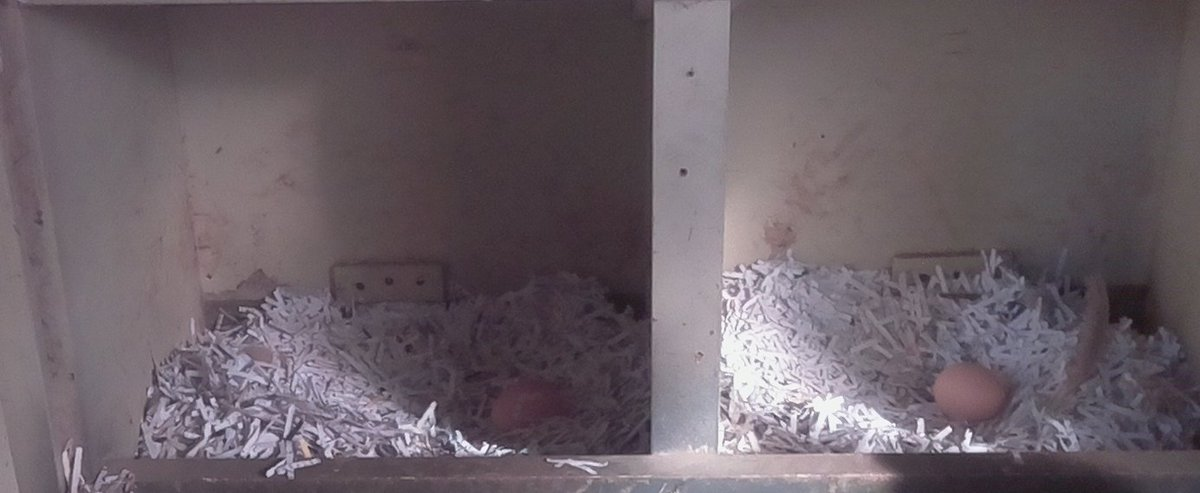egg: (930, 359, 1009, 432)
